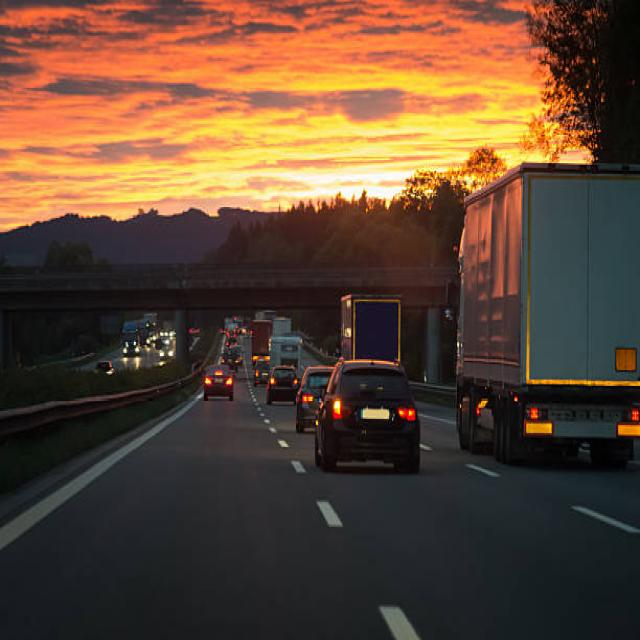Car: (313, 356, 420, 474), (295, 365, 333, 433), (202, 362, 234, 400)
Truck: (454, 160, 639, 466)
